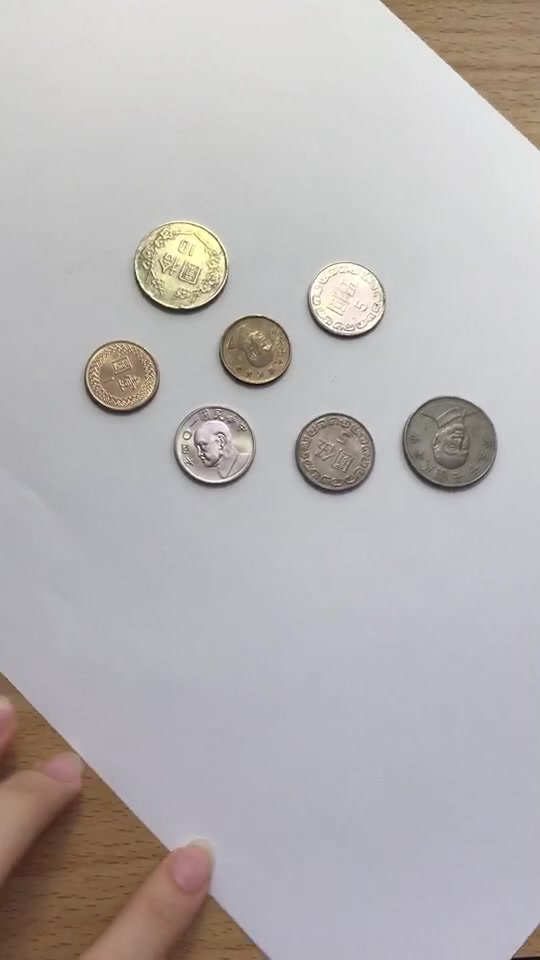1 dallar: (76, 332, 170, 424), (207, 307, 301, 399)
10 dallar: (124, 213, 234, 320), (392, 392, 502, 499)
5 dallar: (174, 400, 259, 486), (290, 406, 375, 492), (302, 259, 387, 345)
